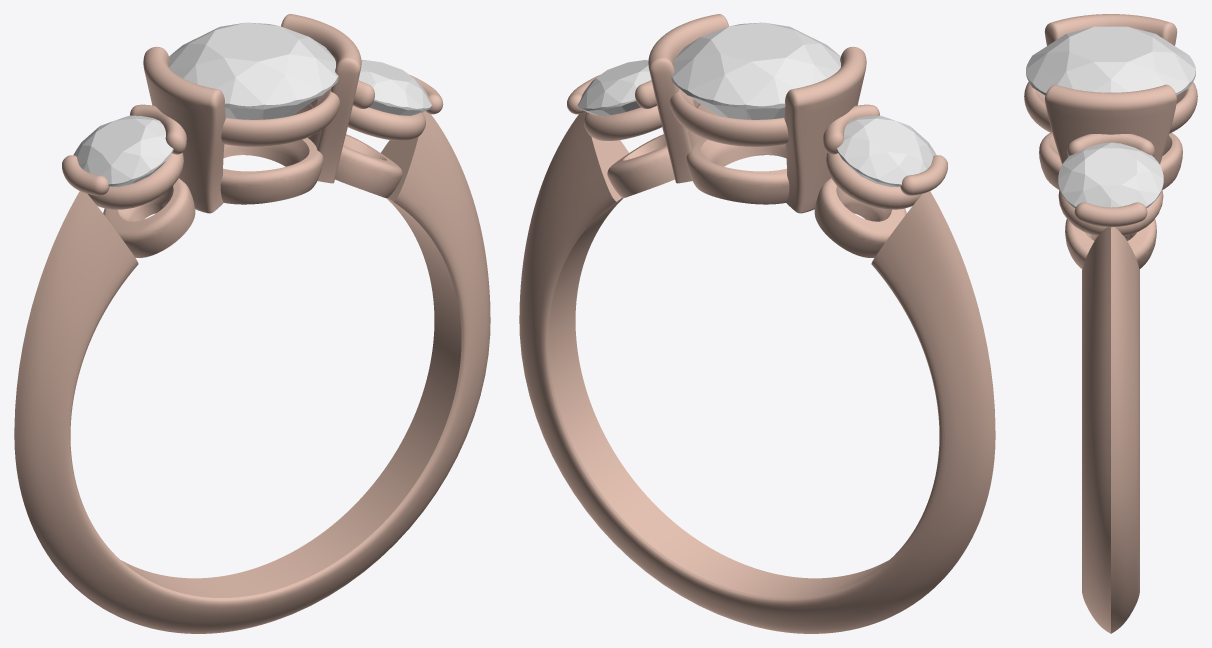
File: diamond-round-rosegold-halfmoonbezel-knifeedge-2stone.glb
3 renders of one model, left to right at view 1: azimuth 30°, elevation 25°; view 2: azimuth 150°, elevation 25°; view 3: azimuth 270°, elevation 25°, orthographic. The views are drawn at different scales.
Parts seen in each view (by area): view 1: metal, stone, side, side.001; view 2: metal, stone, side, side.001; view 3: metal, stone, side.001.
Boxes of the visible parts, x1=… form: metal: x1=14, y1=14, x2=490, y2=633; stone: x1=169, y1=22, x2=338, y2=119; side: x1=73, y1=115, x2=173, y2=187; side.001: x1=358, y1=60, x2=432, y2=115; metal: x1=519, y1=14, x2=995, y2=633; stone: x1=671, y1=22, x2=840, y2=119; side: x1=836, y1=115, x2=936, y2=186; side.001: x1=577, y1=60, x2=651, y2=115; metal: x1=1024, y1=14, x2=1197, y2=633; stone: x1=1026, y1=26, x2=1195, y2=95; side.001: x1=1058, y1=142, x2=1163, y2=208.
Size of the model in its own units: 20.1 by 23.61 by 6.58.
